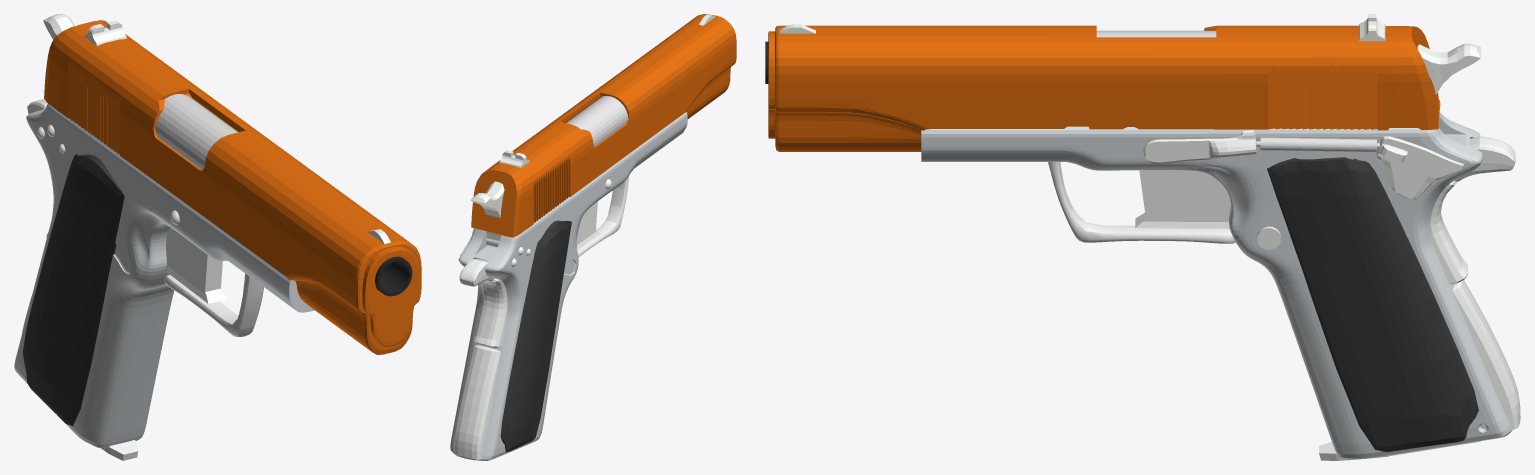
File: awesomesimpleguncustomized.fbx
3 renders of one model, left to right at view 1: azimuth 30°, elevation 25°; view 2: azimuth 150°, elevation 25°; view 3: azimuth 270°, elevation 25°, orthographic. The views are drawn at different scales.
Visible parts, largest first — view 1: Top part, Non glossy part, Shaft part, blue2, Cube.002, Cube.052, Black metal part, Cube.010_Cube.028, Cube.011_Cube.022, Cube.013_Cube.031; view 2: Top part, Non glossy part, Shaft part, Cube.007_Cube.010, Cube.008_Cube.011, blue2, Cube.052, Cube.013_Cube.031, Cube.002, Cube.010_Cube.028; view 3: Top part, Shaft part, Non glossy part, Cube.002, Cube.052, Cube.006_Cube.009, Cube.007_Cube.010, Cube.008_Cube.011, Cube.005_Cube.008, blue, Cube.013_Cube.031, blue2 (+1 smaller).
Boxes of the visible parts, x1,y1,x2,y2 form: Top part: (44,20,421,354); Non glossy part: (14,103,314,448); Shaft part: (23,154,124,425); blue2: (155,94,237,169); Cube.002: (164,227,227,303); Cube.052: (164,273,263,336); Black metal part: (375,256,412,296); Cube.010_Cube.028: (84,20,390,244); Cube.011_Cube.022: (101,440,138,460); Cube.013_Cube.031: (43,14,74,39); Top part: (471,14,736,237); Non glossy part: (450,112,687,460); Shaft part: (500,220,571,452); Cube.007_Cube.010: (453,345,500,460); Cube.008_Cube.011: (459,259,507,347); blue2: (566,96,628,146); Cube.052: (577,175,629,256); Cube.013_Cube.031: (471,181,504,247); Cube.002: (576,201,600,249); Cube.010_Cube.028: (499,14,715,168); Top part: (768,25,1440,151); Shaft part: (1267,157,1478,452); Non glossy part: (921,112,1511,459); Cube.002: (1135,170,1230,228); Cube.052: (1048,162,1235,243); Cube.006_Cube.009: (1376,136,1464,199); Cube.007_Cube.010: (1452,280,1520,430); Cube.008_Cube.011: (1430,136,1515,284); Cube.005_Cube.008: (1143,130,1256,163); blue: (1256,137,1379,152); Cube.013_Cube.031: (1417,43,1480,94); blue2: (1096,30,1216,37).
Bounding box in the file's own units: 2.56 × 12.12 × 18.98.
